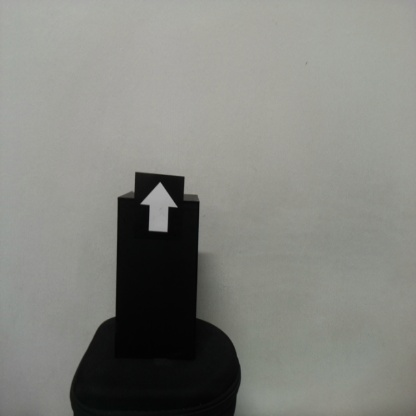id_1: (136, 173, 184, 249)
